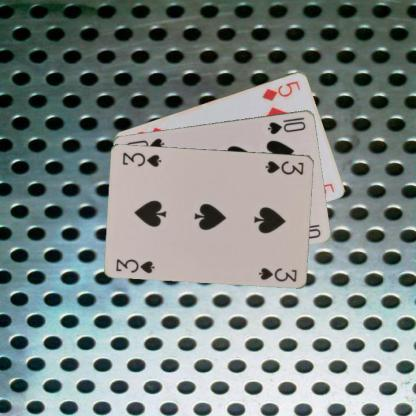10s: (265, 114, 307, 136)
3s: (263, 158, 305, 176), (114, 256, 156, 274)
5d: (260, 78, 302, 102)
